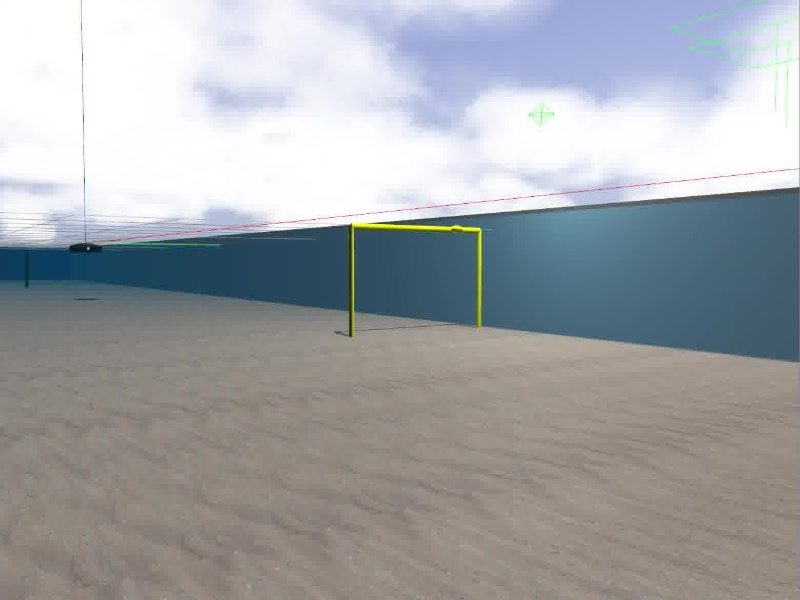gate: (350, 222, 483, 335)
